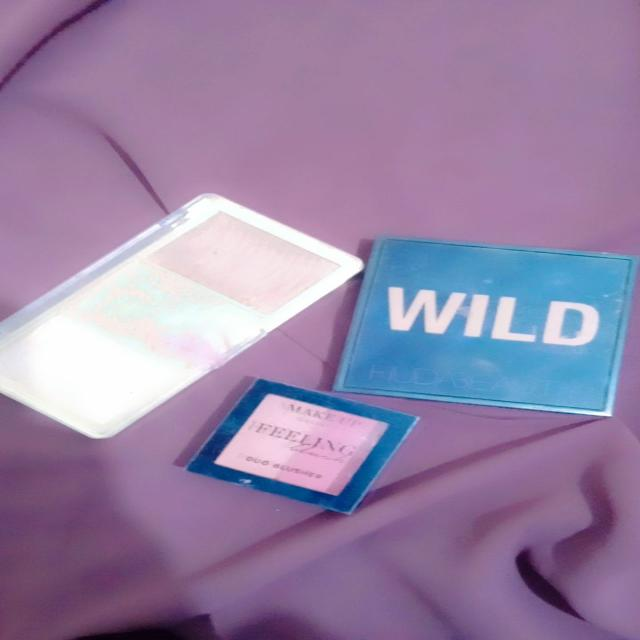highlighter: (0, 179, 370, 441)
powder: (167, 375, 430, 535)
